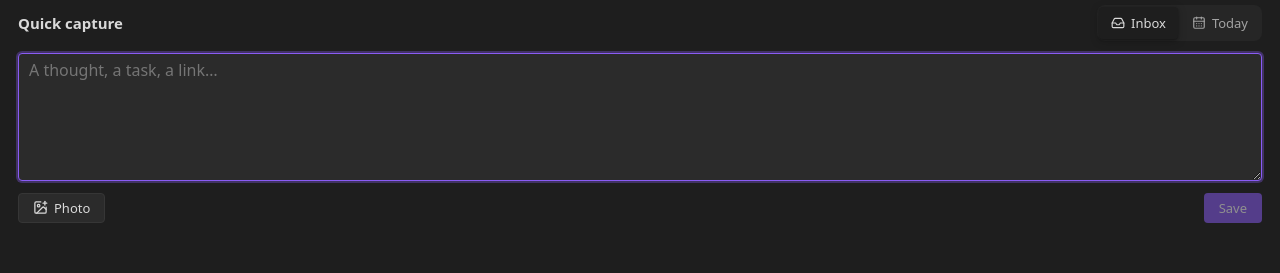
Scenario: quick capture form › a refused capture keeps the text in the form and shows why
Type "keep me" into the text box named "Capture text" at (640,117), box [18, 53, 1262, 181]
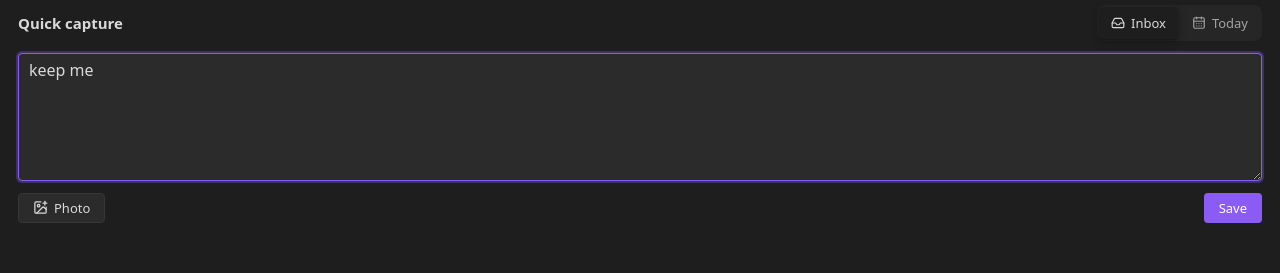
Click the button "Save" at (1233,208), box [1204, 193, 1262, 223]
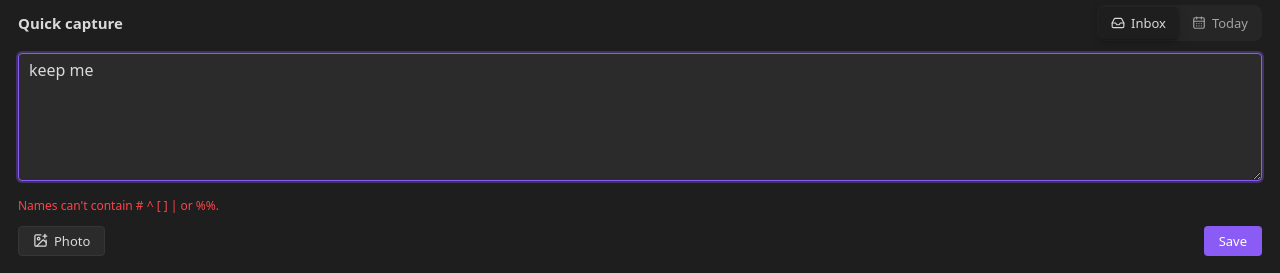
Check: the message "Names can't contain # ^ [ ] | or %%." is shown, box [18, 197, 219, 214]
